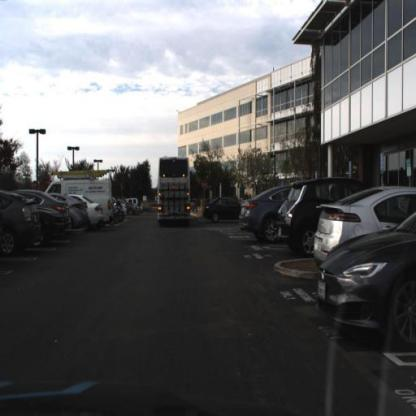car: (317, 207, 416, 339), (315, 190, 393, 265), (276, 177, 331, 259), (240, 182, 283, 246), (1, 190, 41, 258), (38, 206, 65, 250), (204, 196, 241, 228), (202, 195, 240, 224), (65, 197, 89, 233), (40, 206, 64, 240), (70, 198, 91, 232), (54, 198, 74, 232), (89, 198, 103, 231), (90, 201, 104, 229)
truck: (158, 155, 193, 230), (101, 169, 114, 224), (103, 179, 115, 226)
